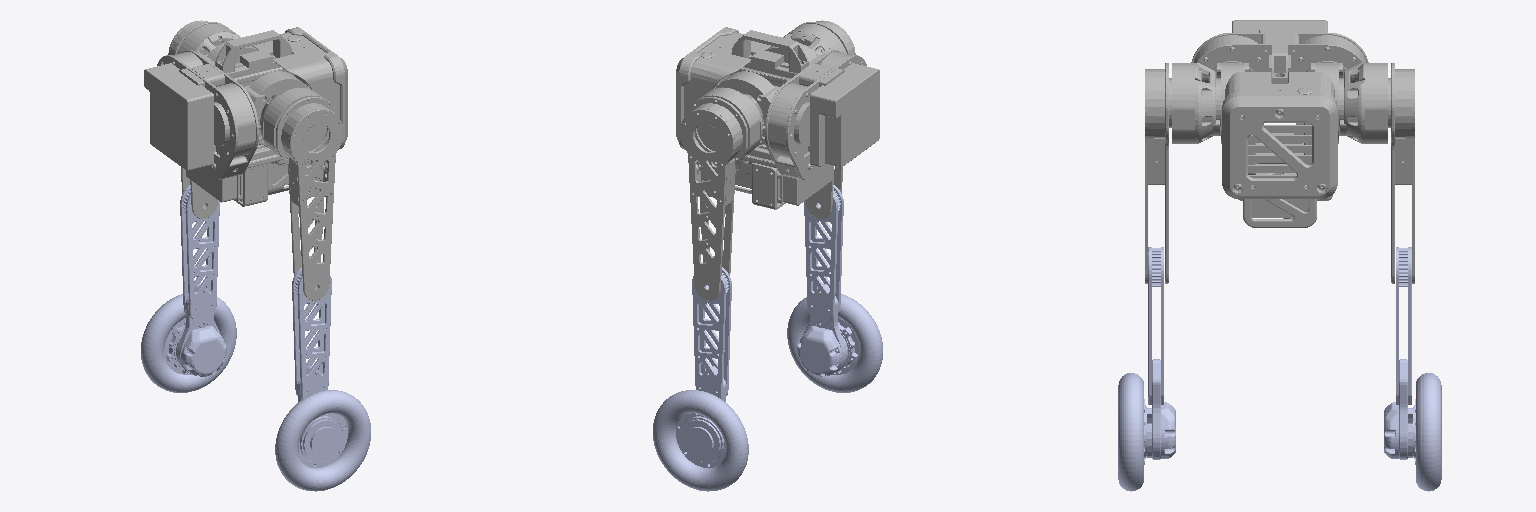
robot.urdf — bi_urdf:
<?xml version="1.0" encoding="utf-8"?>
<!-- This URDF was automatically created by SolidWorks to URDF Exporter! Originally created by [author] ([email redacted]) 
     Commit Version: 1.6.0-4-g7f85cfe  Build Version: 1.6.7995.38578
     For more information, please see http://wiki.ros.org/sw_urdf_exporter -->
<robot
  name="bi_urdf">
  <mujoco>
  <compiler
    meshdir="[local-path]/mujoco_rl/crazydog_mujoco/bi_urdf/meshes"
    balanceinertia="true"
    discardvisual="false" />
  </mujoco>
  <link
    name="base">
    <inertial>
      <origin
        xyz="-0.02790197 0.00038374 -0.08713367"
        rpy="0 0 0" />
      <mass
        value="3.74400000" />
      <inertia
        ixx="0.01794711"
        ixy="0.00007467"
        ixz="-0.00221989"
        iyy="0.02602695"
        iyz="-0.00017139"
        izz="0.02385452" />
    </inertial>
    <visual>
      <origin
        xyz="0 0 0"
        rpy="0 0 0" />
      <geometry>
        <mesh
          filename="package://bi_urdf/meshes/Base.STL" />
      </geometry>
      <material
        name="">
        <color
          rgba="0.752941176470588 0.752941176470588 0.752941176470588 1" />
      </material>
    </visual>
    <collision>
      <origin
        xyz="0 0 0"
        rpy="0 0 0" />
      <geometry>
        <mesh
          filename="package://bi_urdf/meshes/Base.STL" />
      </geometry>
    </collision>
  </link>
  <link
    name="L_hip">
    <inertial>
      <origin
        xyz="-0.00437791 -0.00083480 -0.00000156"
        rpy="0 0 0" />
      <mass
        value="0.57300000" />
      <inertia
        ixx="0.00035684"
        ixy="0.00000082"
        ixz="-0.00000003"
        iyy="0.00066067"
        iyz="0.000000001"
        izz="0.00042648" />
    </inertial>
    <visual>
      <origin
        xyz="0 0 0"
        rpy="0 0 0" />
      <geometry>
        <mesh
          filename="package://bi_urdf/meshes/L_hip.STL" />
      </geometry>
      <material
        name="">
        <color
          rgba="0.752941176470588 0.752941176470588 0.752941176470588 1" />
      </material>
    </visual>
    <collision>
      <origin
        xyz="0 0 0"
        rpy="0 0 0" />
      <geometry>
        <mesh
          filename="package://bi_urdf/meshes/L_hip.STL" />
      </geometry>
    </collision>
  </link>
  <joint
    name="L_hip_joint"
    type="revolute">
    <origin
      xyz="0 0.05624988744529 -0.0547749999999975"
      rpy="0 0 0" />
    <parent
      link="base" />
    <child
      link="L_hip" />
    <axis
      xyz="1 0 0" />
  </joint>
  <link
    name="L_thigh">
    <inertial>
      <origin
        xyz="-0.00000319 0.05414817 -0.03014960"
        rpy="0 0 0" />
      <mass
        value="1.12300000" />
      <inertia
        ixx="0.00499319"
        ixy="-0.00000083"
        ixz="0.00000077"
        iyy="0.00498415"
        iyz="-0.00069204"
        izz="0.00115921" />
    </inertial>
    <visual>
      <origin
        xyz="0 0 0"
        rpy="0 0 0" />
      <geometry>
        <mesh
          filename="package://bi_urdf/meshes/L_thigh.STL" />
      </geometry>
      <material
        name="">
        <color
          rgba="0.752941176470588 0.752941176470588 0.752941176470588 1" />
      </material>
    </visual>
    <collision>
      <origin
        xyz="0 0 0"
        rpy="0 0 0" />
      <geometry>
        <mesh
          filename="package://bi_urdf/meshes/L_thigh.STL" />
      </geometry>
    </collision>
  </link>
  <joint
    name="L_thigh_joint"
    type="revolute">
    <origin
      xyz="-0.000265036093632373 0.0144424855132426 0"
      rpy="0 0 0" />
    <parent
      link="L_hip" />
    <child
      link="L_thigh" />
    <axis
      xyz="0 1 0" />
  </joint>
  <link
    name="L_calf">
    <inertial>
      <origin
        xyz="0.00002300 0.02974174 -0.15275547"
        rpy="0 0 0" />
      <mass
        value="0.55500000" />
      <inertia
        ixx="0.00382006"
        ixy="-0.00000009"
        ixz="0.00000185"
        iyy="0.00386186"
        iyz="-0.00023167"
        izz="0.00022552" />
    </inertial>
    <visual>
      <origin
        xyz="0 0 0"
        rpy="0 0 0" />
      <geometry>
        <mesh
          filename="package://bi_urdf/meshes/L_calf.STL" />
      </geometry>
      <material
        name="">
        <color
          rgba="0.792156862745098 0.819607843137255 0.933333333333333 1" />
      </material>
    </visual>
    <collision>
      <origin
        xyz="0 0 0"
        rpy="0 0 0" />
      <geometry>
        <mesh
          filename="package://bi_urdf/meshes/L_calf.STL" />
      </geometry>
    </collision>
  </link>
  <joint
    name="L_calf_joint"
    type="revolute">
    <origin
      xyz="0 0.0527575781855786 -0.215000000000008"
      rpy="0 0 0" />
    <parent
      link="L_thigh" />
    <child
      link="L_calf" />
    <axis
      xyz="0 1 0" />
  </joint>
  <link
    name="L_wheel">
    <inertial>
      <origin
        xyz="0.00000000 0.01519770 0.00000000"
        rpy="0 0 0" />
      <mass
        value="0.28000000" />
      <inertia
        ixx="0.00045838"
        ixy="0.000000001"
        ixz="0.000000001"
        iyy="0.00088385"
        iyz="0.000000001"
        izz="0.00045837" />
    </inertial>
    <visual>
      <origin
        xyz="0 0 0"
        rpy="0 0 0" />
      <geometry>
        <mesh
          filename="package://bi_urdf/meshes/L_wheel.STL" />
      </geometry>
      <material
        name="">
        <color
          rgba="0.792156862745098 0.819607843137255 0.933333333333333 1" />
      </material>
    </visual>
    <collision>
      <origin
        xyz="0 0 0"
        rpy="0 0 0" />
      <geometry>
        <mesh
          filename="package://bi_urdf/meshes/L_wheel.STL" />
      </geometry>
    </collision>
  </link>
  <joint
    name="L_wheel_joint"
    type="revolute">
    <origin
      xyz="0 0.0372306801421307 -0.215"
      rpy="0 0 0" />
    <parent
      link="L_calf" />
    <child
      link="L_wheel" />
    <axis
      xyz="0 1 0" />
  </joint>
  <link
    name="R_hip">
    <inertial>
      <origin
        xyz="-0.00411048 0.00527723 0.00000000"
        rpy="0 0 0" />
      <mass
        value="0.57300000" />
      <inertia
        ixx="0.00035682"
        ixy="-0.00000082"
        ixz="-0.00000002"
        iyy="0.00066070"
        iyz="0.000000001"
        izz="0.00042653" />
    </inertial>
    <visual>
      <origin
        xyz="0 0 0"
        rpy="0 0 0" />
      <geometry>
        <mesh
          filename="package://bi_urdf/meshes/R_hip.STL" />
      </geometry>
      <material
        name="">
        <color
          rgba="0.752941176470588 0.752941176470588 0.752941176470588 1" />
      </material>
    </visual>
    <collision>
      <origin
        xyz="0 0 0"
        rpy="0 0 0" />
      <geometry>
        <mesh
          filename="package://bi_urdf/meshes/R_hip.STL" />
      </geometry>
    </collision>
  </link>
  <joint
    name="R_hip_joint"
    type="revolute">
    <origin
      xyz="-0.000265036093632404 -0.060692372958567 -0.054775543466975"
      rpy="0 0 0" />
    <parent
      link="base" />
    <child
      link="R_hip" />
    <axis
      xyz="1 0 0" />
  </joint>
  <link
    name="R_thigh">
    <inertial>
      <origin
        xyz="-0.00000455 -0.05414885 -0.03014968"
        rpy="0 0 0" />
      <mass
        value="1.12300000" />
      <inertia
        ixx="0.00499324"
        ixy="0.00000080"
        ixz="0.00000079"
        iyy="0.00498427"
        iyz="0.00069204"
        izz="0.00115923" />
    </inertial>
    <visual>
      <origin
        xyz="0 0 0"
        rpy="0 0 0" />
      <geometry>
        <mesh
          filename="package://bi_urdf/meshes/R_thigh.STL" />
      </geometry>
      <material
        name="">
        <color
          rgba="0.752941176470588 0.752941176470588 0.752941176470588 1" />
      </material>
    </visual>
    <collision>
      <origin
        xyz="0 0 0"
        rpy="0 0 0" />
      <geometry>
        <mesh
          filename="package://bi_urdf/meshes/R_thigh.STL" />
      </geometry>
    </collision>
  </link>
  <joint
    name="R_thigh_joint"
    type="revolute">
    <origin
      xyz="0 -0.01 0"
      rpy="0 0 0" />
    <parent
      link="R_hip" />
    <child
      link="R_thigh" />
    <axis
      xyz="0 1 0" />
  </joint>
  <link
    name="R_calf">
    <inertial>
      <origin
        xyz="0.00002256 -0.02974209 -0.15275385"
        rpy="0 0 0" />
      <mass
        value="0.55500000" />
      <inertia
        ixx="0.00382014"
        ixy="0.00000009"
        ixz="0.00000188"
        iyy="0.00386193"
        iyz="0.00023168"
        izz="0.00022552" />
    </inertial>
    <visual>
      <origin
        xyz="0 0 0"
        rpy="0 0 0" />
      <geometry>
        <mesh
          filename="package://bi_urdf/meshes/R_calf.STL" />
      </geometry>
      <material
        name="">
        <color
          rgba="0.792156862745098 0.819607843137255 0.933333333333333 1" />
      </material>
    </visual>
    <collision>
      <origin
        xyz="0 0 0"
        rpy="0 0 0" />
      <geometry>
        <mesh
          filename="package://bi_urdf/meshes/R_calf.STL" />
      </geometry>
    </collision>
  </link>
  <joint
    name="R_calf_joint"
    type="revolute">
    <origin
      xyz="0 -0.0527575781855423 -0.215000000000002"
      rpy="0 0 0" />
    <parent
      link="R_thigh" />
    <child
      link="R_calf" />
    <axis
      xyz="0 1 0" />
  </joint>
  <link
    name="R_wheel">
    <inertial>
      <origin
        xyz="0.00000000 -0.01519770 0.00000000"
        rpy="0 0 0" />
      <mass
        value="0.28000000" />
      <inertia
        ixx="0.00045838"
        ixy="0.000000001"
        ixz="0.000000001"
        iyy="0.00088386"
        iyz="0.000000001"
        izz="0.00045838" />
    </inertial>
    <visual>
      <origin
        xyz="0 0 0"
        rpy="0 0 0" />
      <geometry>
        <mesh
          filename="package://bi_urdf/meshes/R_wheel.STL" />
      </geometry>
      <material
        name="">
        <color
          rgba="0.792156862745098 0.819607843137255 0.933333333333333 1" />
      </material>
    </visual>
    <collision>
      <origin
        xyz="0 0 0"
        rpy="0 0 0" />
      <geometry>
        <mesh
          filename="package://bi_urdf/meshes/R_wheel.STL" />
      </geometry>
    </collision>
  </link>
  <joint
    name="R_wheel_joint"
    type="revolute">
    <origin
      xyz="0 -0.0372306801421371 -0.215"
      rpy="0 0 0" />
    <parent
      link="R_calf" />
    <child
      link="R_wheel" />
    <axis
      xyz="0 1 0" />
  </joint>
</robot>

--- Render facts (derived) ---
3 views of the same robot in one strip: view 1: azimuth 30°, elevation 25°; view 2: azimuth 150°, elevation 25°; view 3: azimuth 270°, elevation 25° (orthographic).
Robot: bi_urdf — 9 links, 8 joints (8 revolute); root link base; default pose: all joints at 0.
Links seen in each view (by area): view 1: base, R_thigh, L_calf, R_wheel, R_calf, L_wheel, L_thigh, R_hip; view 2: base, L_thigh, R_calf, L_wheel, L_calf, R_wheel, R_thigh, L_hip; view 3: base, L_thigh, R_thigh, L_calf, R_calf, L_wheel, R_wheel, L_hip, R_hip.
Link boxes in pixels (box(x1,y1,x2,y2)): base: box(144, 27, 347, 206); R_thigh: box(259, 87, 343, 300); L_calf: box(166, 185, 226, 376); R_wheel: box(275, 390, 370, 491); R_calf: box(292, 267, 344, 464); L_wheel: box(141, 294, 236, 392); L_thigh: box(168, 20, 240, 218); R_hip: box(244, 71, 308, 145); base: box(676, 27, 879, 209); L_thigh: box(680, 87, 764, 300); R_calf: box(797, 185, 857, 376); L_wheel: box(653, 390, 748, 491); L_calf: box(679, 267, 731, 464); R_wheel: box(787, 294, 882, 392); R_thigh: box(783, 20, 855, 218); L_hip: box(715, 71, 779, 145); base: box(1191, 20, 1368, 227); L_thigh: box(1340, 63, 1414, 283); R_thigh: box(1145, 63, 1219, 283); L_calf: box(1384, 247, 1415, 464); R_calf: box(1144, 247, 1175, 464); L_wheel: box(1416, 373, 1441, 491); R_wheel: box(1118, 373, 1143, 491); L_hip: box(1311, 63, 1343, 143); R_hip: box(1216, 63, 1248, 143).
Size in the robot's own frame: 0.2408 by 0.3828 by 0.5813 metres.
9 mesh visuals loaded from 9 distinct referenced files (9 binary STL).
